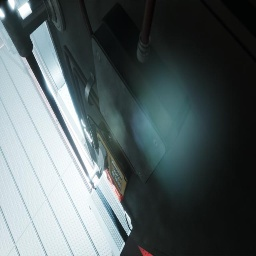EmergencyPhone ,: (87, 114, 132, 196)
FireAlarm ,: (105, 169, 125, 202)
